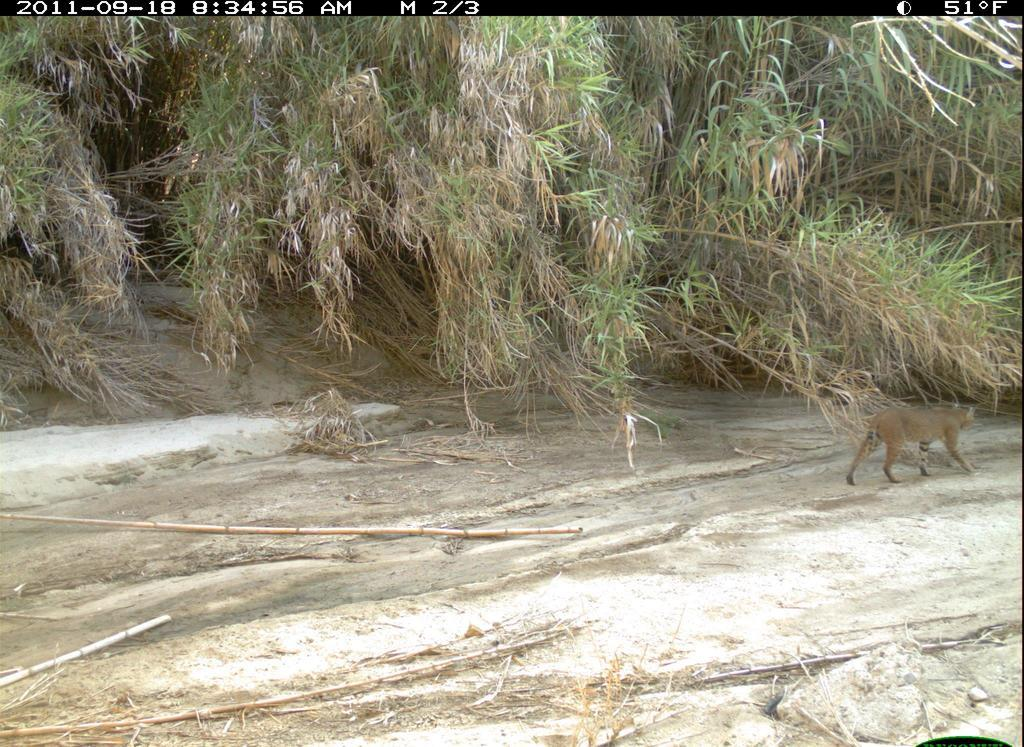bobcat: (831, 385, 987, 504)
